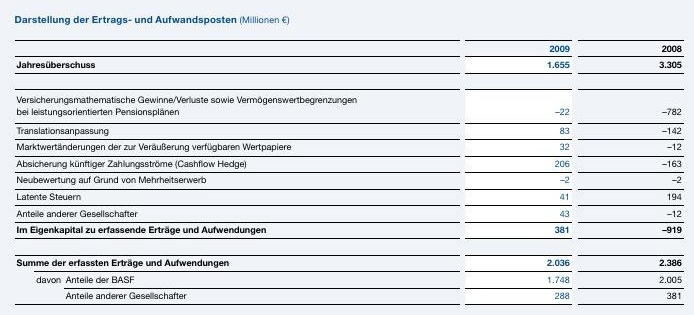table: (0, 0, 694, 315)
